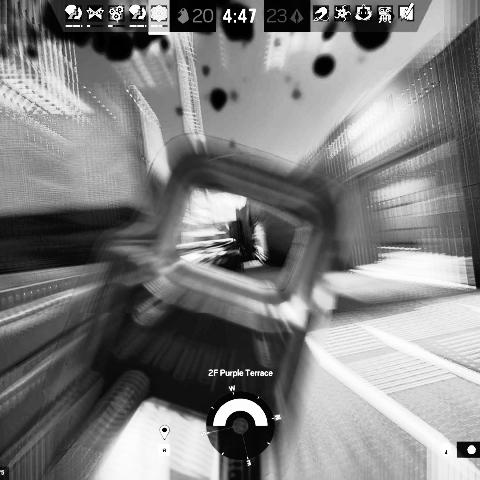Character: (234, 242, 250, 262)
